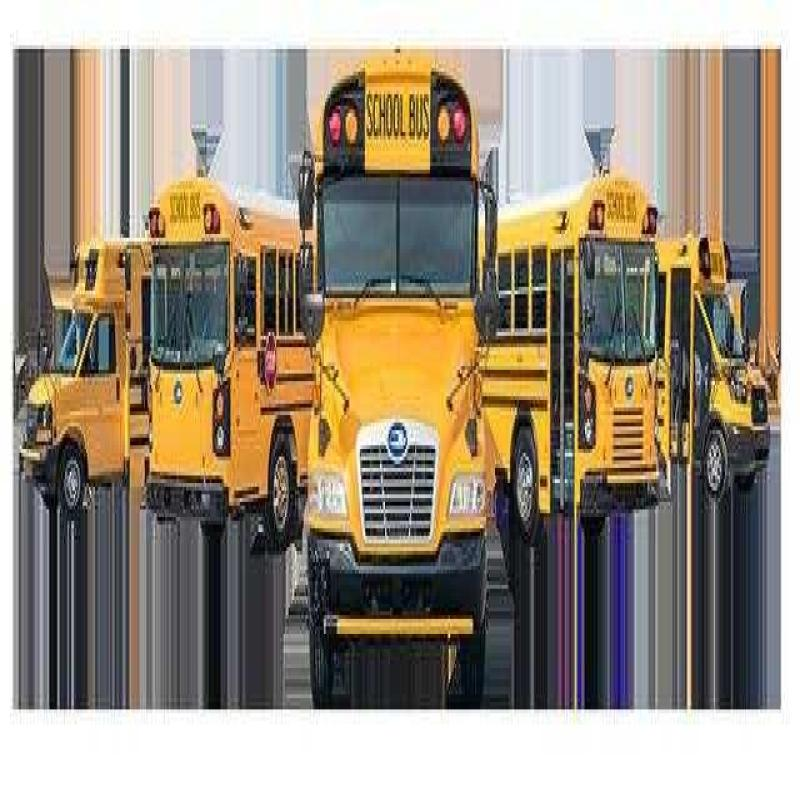bus: (291, 69, 495, 752)
